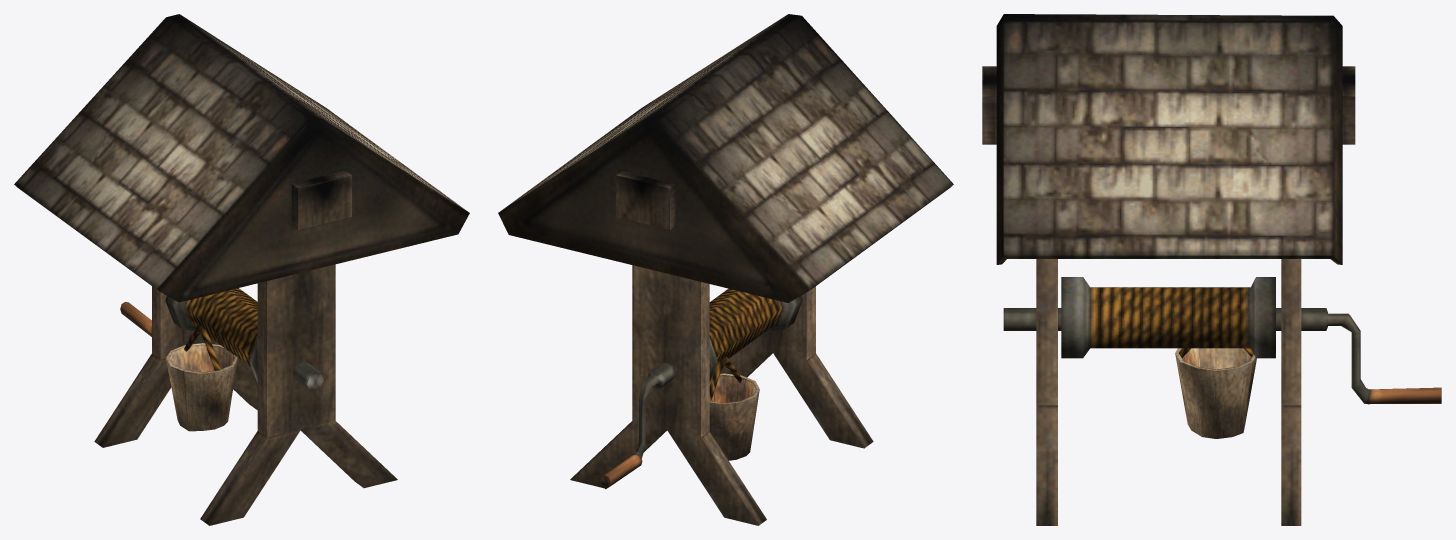
File: waterput.obj
The picture shows the model from 3 angles, left to right: view 1: azimuth 30°, elevation 25°; view 2: azimuth 150°, elevation 25°; view 3: azimuth 270°, elevation 25°; orthographic projection. The views are drawn at different scales.
Parts seen in each view (by area): view 1: Group; view 2: Group; view 3: Group.
Boxes of the visible parts, box(x1,y1,x2,y2) form: Group: box(14, 14, 469, 525); Group: box(498, 14, 953, 525); Group: box(982, 14, 1441, 525).
Size of the model in its own units: 79.47 by 95.88 by 87.94.
Materials: 1 (1 with a texture image).
